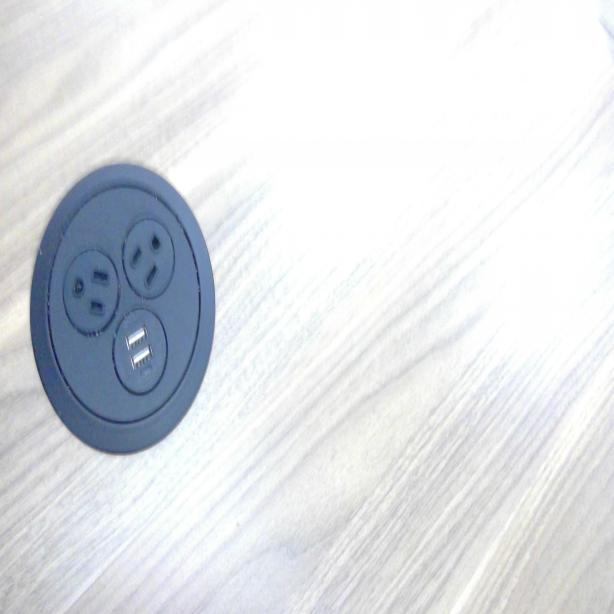typeb: (126, 228, 172, 295), (65, 260, 111, 323)
